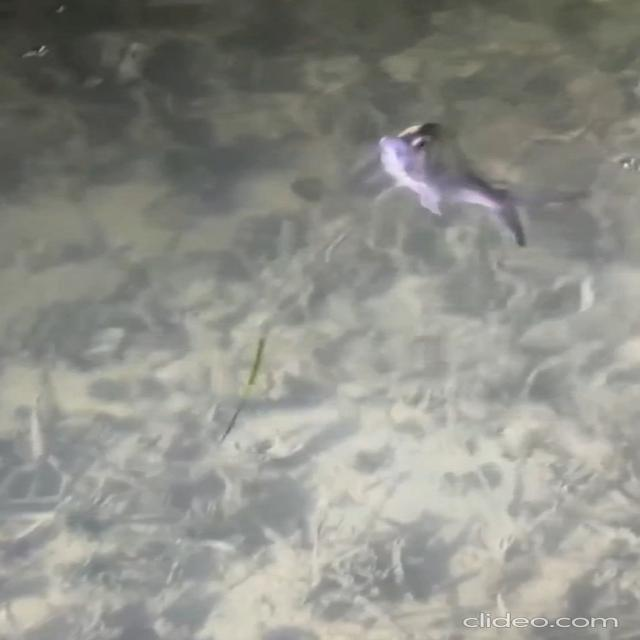fish: (358, 107, 559, 259)
